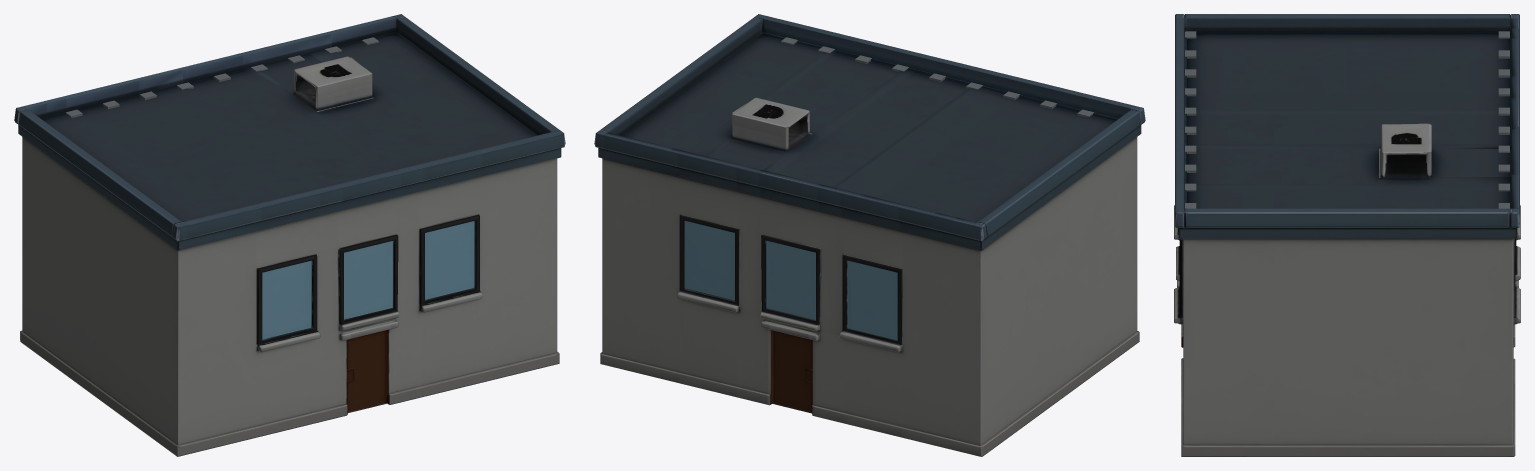
File: small-office-crafted.glb
3 renders of one model, left to right at view 1: azimuth 30°, elevation 25°; view 2: azimuth 150°, elevation 25°; view 3: azimuth 270°, elevation 25°, orthographic. The views are drawn at different scales.
Visible parts, largest first — view 1: tripo_node_b1feb03a-e73c-41f9-9d87-c700355b9088; view 2: tripo_node_b1feb03a-e73c-41f9-9d87-c700355b9088; view 3: tripo_node_b1feb03a-e73c-41f9-9d87-c700355b9088.
Boxes of the visible parts, left/top/right/bottom form: tripo_node_b1feb03a-e73c-41f9-9d87-c700355b9088: left=14, top=14, right=565, bottom=456; tripo_node_b1feb03a-e73c-41f9-9d87-c700355b9088: left=594, top=14, right=1145, bottom=456; tripo_node_b1feb03a-e73c-41f9-9d87-c700355b9088: left=1174, top=14, right=1520, bottom=456.
Size of the model in its own units: 1 by 0.5969 by 0.7299.
1 material, 1 textured.
